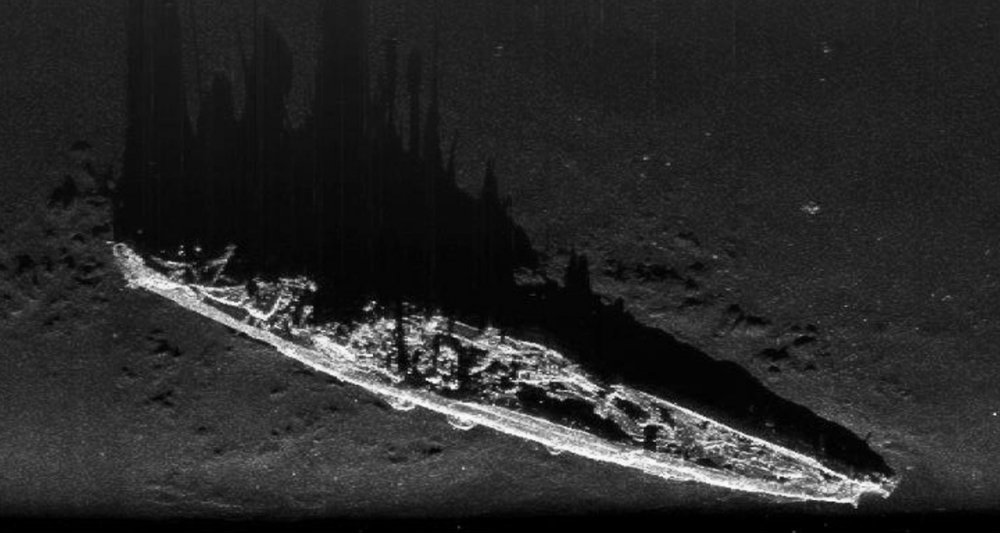ship: (100, 222, 887, 507)
